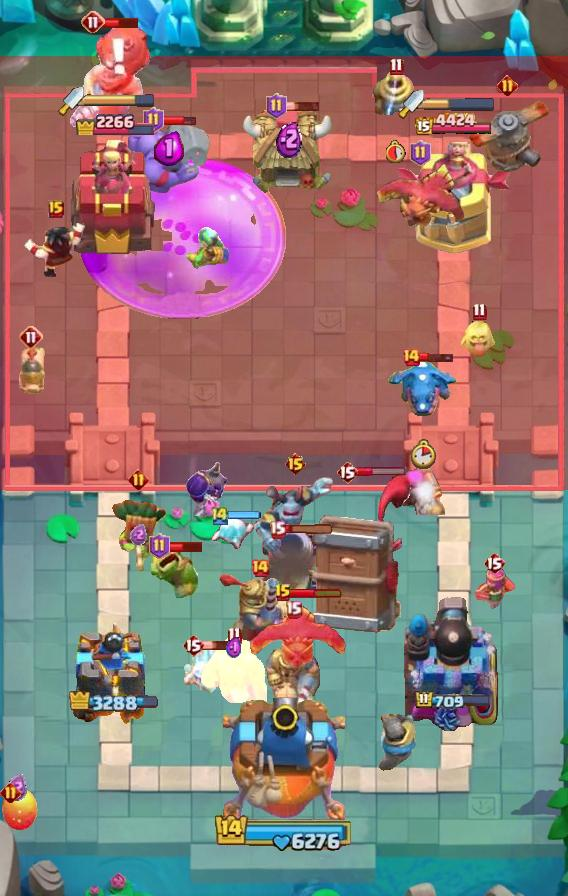archer-queen: (124, 120, 214, 198)
bar: (394, 142, 512, 256), (70, 138, 158, 256)
bat: (181, 646, 229, 694), (209, 514, 255, 550)
bat-evolution: (458, 321, 500, 359)
cannon: (469, 566, 519, 612)
clock: (214, 812, 354, 852)
dark-prince: (462, 87, 552, 177)
dart-goblin: (311, 473, 411, 635)
electro-spirit: (154, 131, 184, 166), (276, 120, 302, 158), (5, 774, 27, 801), (226, 636, 242, 660), (130, 523, 147, 545)
elixir: (410, 439, 436, 469), (386, 140, 406, 164)
elixir-golem-small: (253, 474, 337, 552)
emote: (289, 587, 343, 599), (283, 525, 335, 536), (356, 467, 407, 478), (168, 539, 205, 553), (104, 16, 141, 29), (161, 114, 197, 127), (201, 639, 239, 651), (283, 100, 320, 112), (419, 351, 455, 363), (228, 510, 262, 520)
executioner: (15, 342, 47, 400)
firecracker: (376, 714, 415, 772)
flying-machine: (150, 546, 198, 598)
giant-snowball: (183, 226, 233, 270)
goblin-ball: (186, 454, 230, 520)
goblin-barrel: (108, 495, 168, 573)
goblin-cage: (258, 527, 322, 597)
goblin-drill: (373, 70, 419, 118)
goblin-hut: (201, 634, 267, 707)
graveyard: (387, 357, 459, 419)
hog: (0, 788, 40, 832)
king-tower: (223, 698, 345, 826)
king-tower-bar: (84, 93, 156, 107), (424, 97, 496, 111)
knight-evolution: (80, 156, 286, 320)
lumberjack: (23, 220, 89, 278)
mother-witch: (248, 598, 348, 670), (372, 164, 468, 232)
prince: (242, 106, 336, 196)
queen-tower: (72, 619, 156, 731)
ram-rider: (262, 624, 324, 732), (219, 572, 301, 652)
selected: (73, 109, 155, 136), (69, 691, 159, 715), (414, 112, 494, 138), (414, 689, 492, 711)
text: (81, 10, 105, 34), (19, 325, 43, 349), (285, 452, 308, 476), (265, 93, 286, 119), (144, 107, 165, 133), (410, 140, 431, 166), (149, 533, 170, 559), (336, 460, 358, 484), (483, 551, 505, 575), (182, 633, 204, 657), (497, 75, 518, 97), (128, 469, 149, 490), (210, 505, 230, 527), (0, 782, 20, 803), (401, 347, 421, 367), (250, 558, 270, 578), (274, 583, 292, 603), (286, 601, 303, 620), (270, 521, 287, 539), (48, 200, 64, 218), (472, 302, 487, 321), (389, 57, 403, 76), (227, 626, 241, 645)
tombstone: (395, 461, 445, 515)
tower-bar: (404, 593, 502, 731)
wizard: (68, 20, 154, 130)
